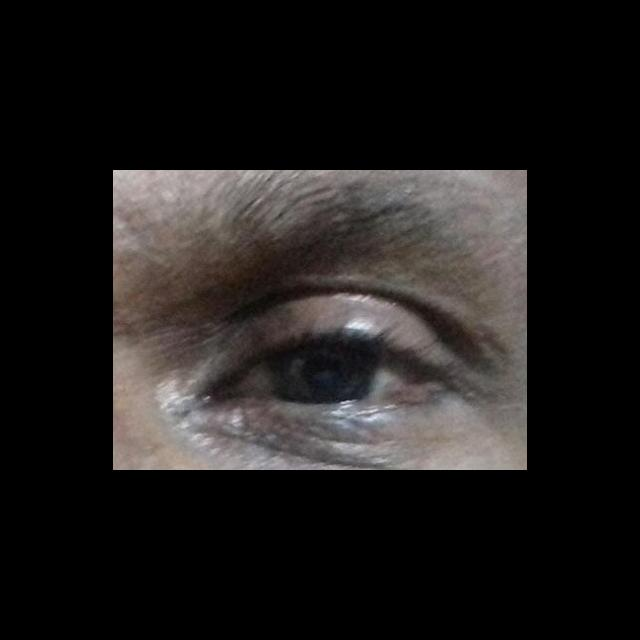eye: (226, 344, 412, 405)
iris: (272, 348, 375, 401)
